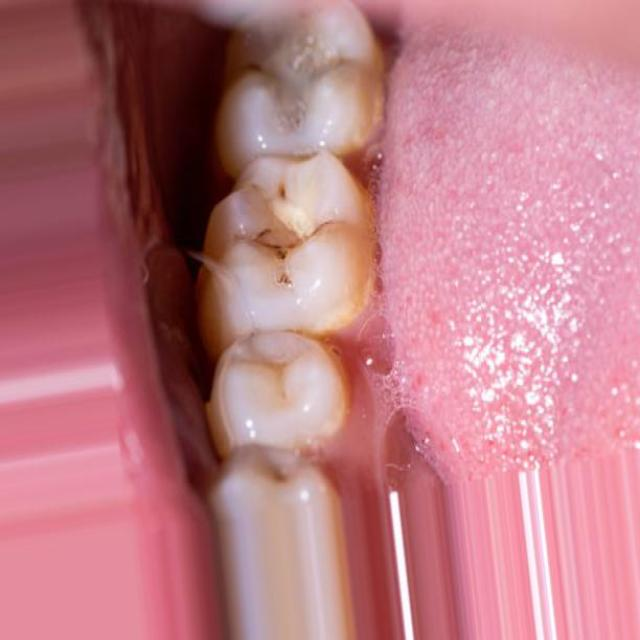caries: (235, 162, 332, 304), (234, 22, 345, 129)
